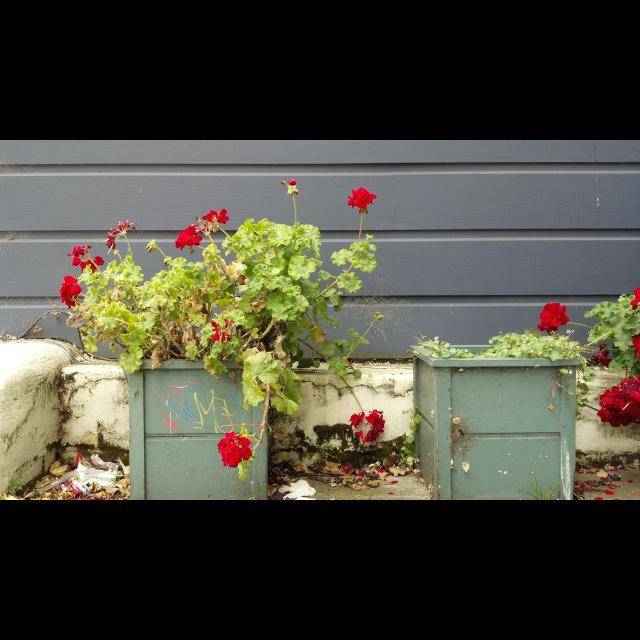Flower: (595, 374, 639, 426), (174, 210, 230, 250), (212, 434, 252, 476), (348, 408, 384, 447), (104, 220, 136, 254), (69, 244, 105, 274), (538, 302, 572, 331), (59, 276, 83, 308), (347, 190, 378, 208), (210, 319, 233, 343), (592, 353, 614, 367), (282, 178, 298, 194), (632, 338, 640, 362), (630, 289, 640, 307)
